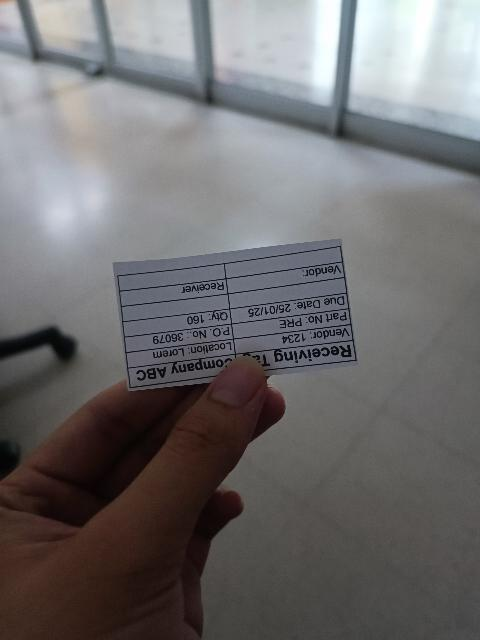PO no: (124, 324, 233, 352)
part no: (231, 309, 351, 339)
qty: (123, 308, 231, 337)
tags: (112, 239, 360, 395)
